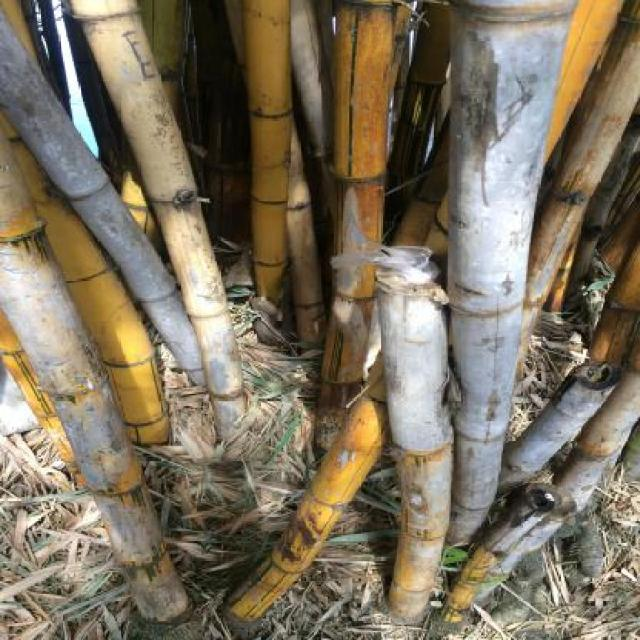plastic: (329, 234, 440, 284)
